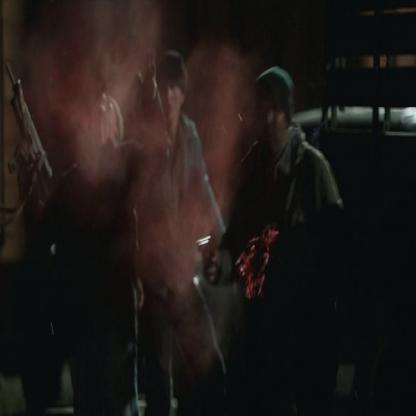Guns: (3, 58, 55, 219), (192, 229, 218, 277)
